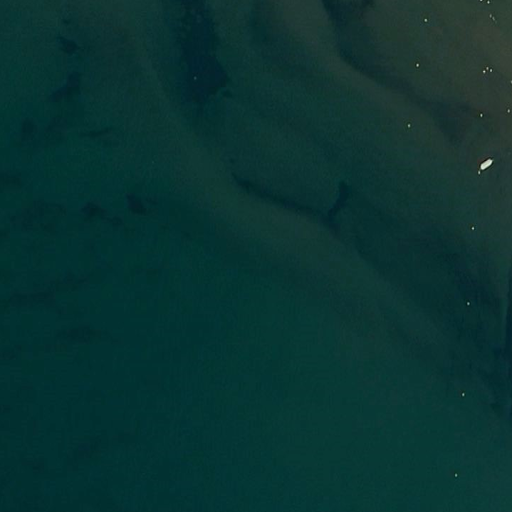ship: (477, 157, 494, 171)
